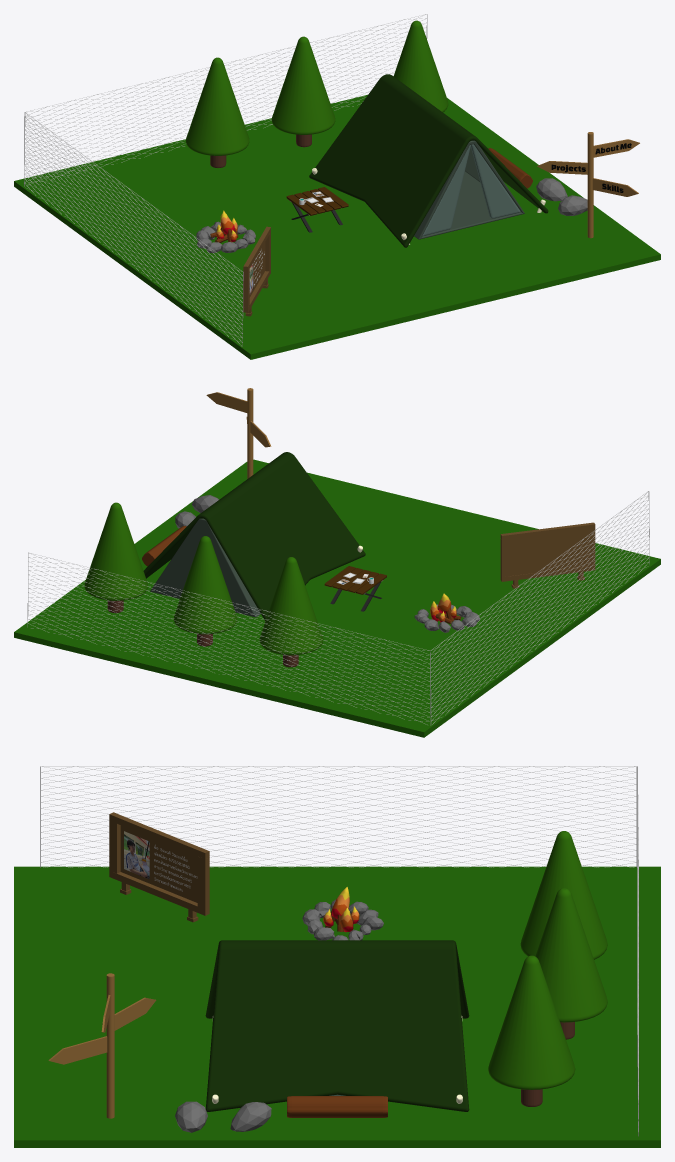
The model's file is 3Dportfolio10.glb.
3 views of the same model, one above another, from view 1: azimuth 30°, elevation 25°; view 2: azimuth 150°, elevation 25°; view 3: azimuth 270°, elevation 25° (orthographic). The views are drawn at different scales.
Visible parts, largest first — view 1: Plane, Cube.001, Plane.001, Plane.002, Cylinder.006, Cylinder.008, Cube, Plane.006, Cylinder.004, Cube.003, Cube.002, Cylinder (+3 smaller); view 2: Plane, Cube.001, Plane.002, Plane.001, Cube.003, Cylinder.008, Cylinder.006, Cylinder.004, Cube, Cube.002, Cylinder; view 3: Plane, Cube.001, Plane.001, Cylinder.004, Cube.003, Cylinder.006, Cylinder.008, Cylinder.002, Cylinder, portfolio_photo, Icosphere.001, Plane.005 (+4 smaller).
Part boxes in pixels (bbox=[...]): Plane: bbox=[14, 94, 660, 359]; Cube.001: bbox=[309, 74, 548, 247]; Plane.001: bbox=[24, 112, 243, 346]; Plane.002: bbox=[24, 14, 427, 186]; Cylinder.006: bbox=[271, 36, 335, 134]; Cylinder.008: bbox=[186, 57, 249, 155]; Cube: bbox=[414, 140, 524, 239]; Plane.006: bbox=[422, 144, 520, 236]; Cylinder.004: bbox=[393, 20, 448, 112]; Cube.003: bbox=[243, 226, 270, 316]; Cube.002: bbox=[286, 187, 348, 215]; Cylinder: bbox=[587, 132, 593, 238]; Plane: bbox=[14, 459, 660, 737]; Cube.001: bbox=[143, 452, 365, 620]; Plane.002: bbox=[27, 552, 430, 725]; Plane.001: bbox=[430, 491, 649, 725]; Cube.003: bbox=[500, 522, 595, 588]; Cylinder.008: bbox=[259, 557, 323, 655]; Cylinder.006: bbox=[173, 536, 237, 634]; Cylinder.004: bbox=[84, 502, 147, 600]; Cube: bbox=[150, 518, 260, 617]; Cube.002: bbox=[324, 566, 386, 594]; Cylinder: bbox=[247, 388, 253, 478]; Plane: bbox=[14, 866, 660, 1147]; Cube.001: bbox=[205, 940, 469, 1111]; Plane.001: bbox=[40, 766, 637, 867]; Cylinder.004: bbox=[488, 955, 575, 1089]; Cube.003: bbox=[109, 812, 209, 922]; Cylinder.006: bbox=[535, 888, 607, 1022]; Cylinder.008: bbox=[520, 831, 607, 959]; Cylinder.002: bbox=[287, 1096, 387, 1117]; Cylinder: bbox=[106, 973, 114, 1118]; portfolio_photo: bbox=[124, 831, 149, 879]; Icosphere.001: bbox=[230, 1102, 271, 1131]; Plane.005: bbox=[48, 1036, 107, 1064].
Size of the model in its own units: 10.28 by 2.64 by 10.
Materials: 30 (5 with a texture image).
